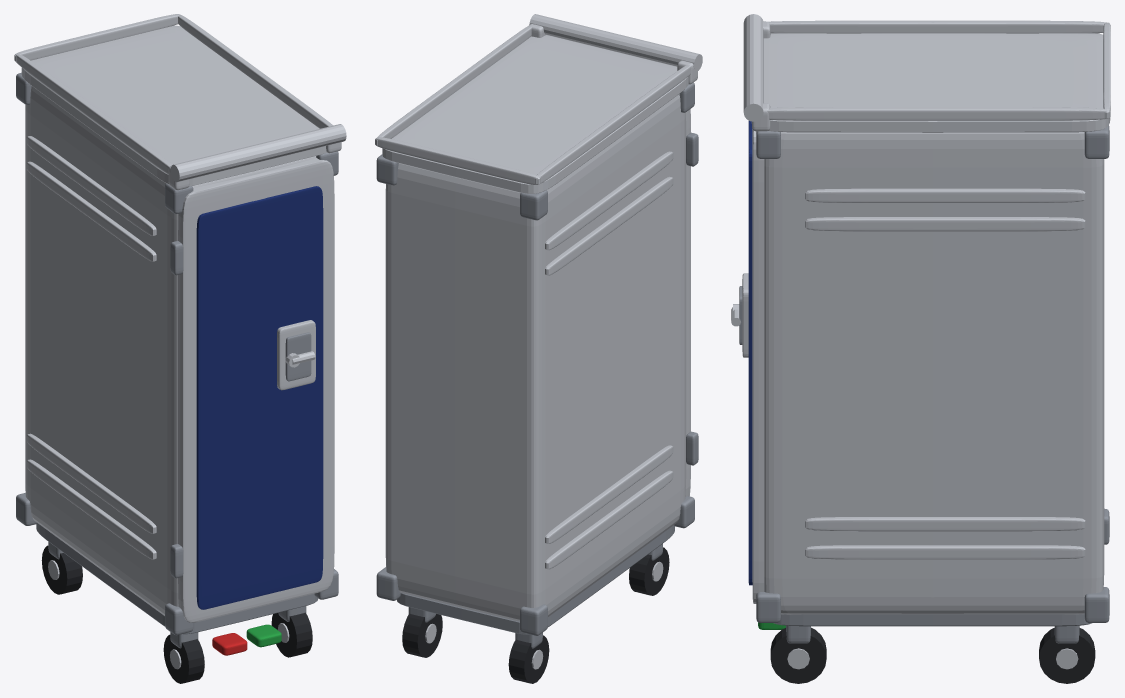
The model's file is Chariot.glb.
3 views of the same model, side by side, from view 1: azimuth 30°, elevation 25°; view 2: azimuth 150°, elevation 25°; view 3: azimuth 270°, elevation 25° (orthographic). The views are drawn at different scales.
Visible parts, largest first — view 1: geometry_0; view 2: geometry_0; view 3: geometry_0.
Part boxes in pixels (x1=…): geometry_0: x1=14, y1=14, x2=346, y2=683; geometry_0: x1=375, y1=14, x2=702, y2=683; geometry_0: x1=731, y1=14, x2=1110, y2=683.
Bounding box in the file's own units: 0.341 × 1.05 × 0.608.
1 material, 1 textured.
